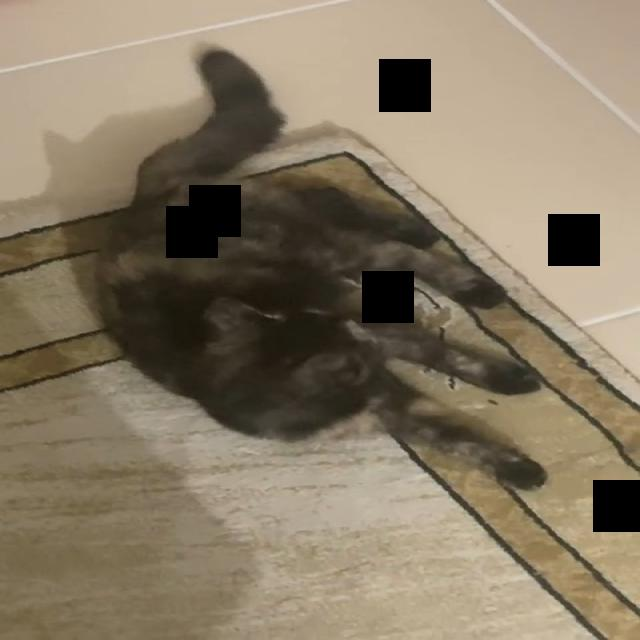authorized: (92, 41, 549, 492)
